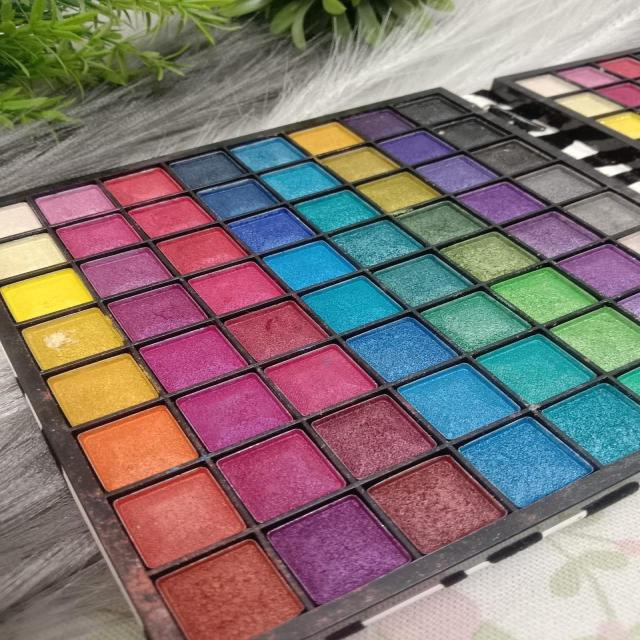eye shade: (0, 39, 636, 640)
